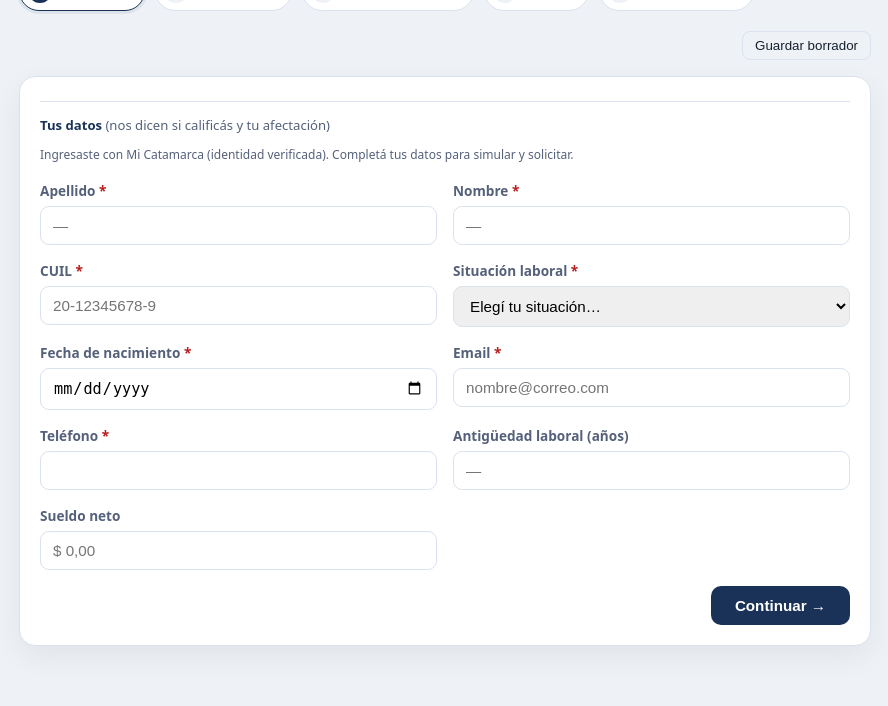
Test: paso 1 · tus datos › exige apellido y nombre
(page scrolled)
Click the button "Continuar →" at [780, 606], box [711,586,850,625]
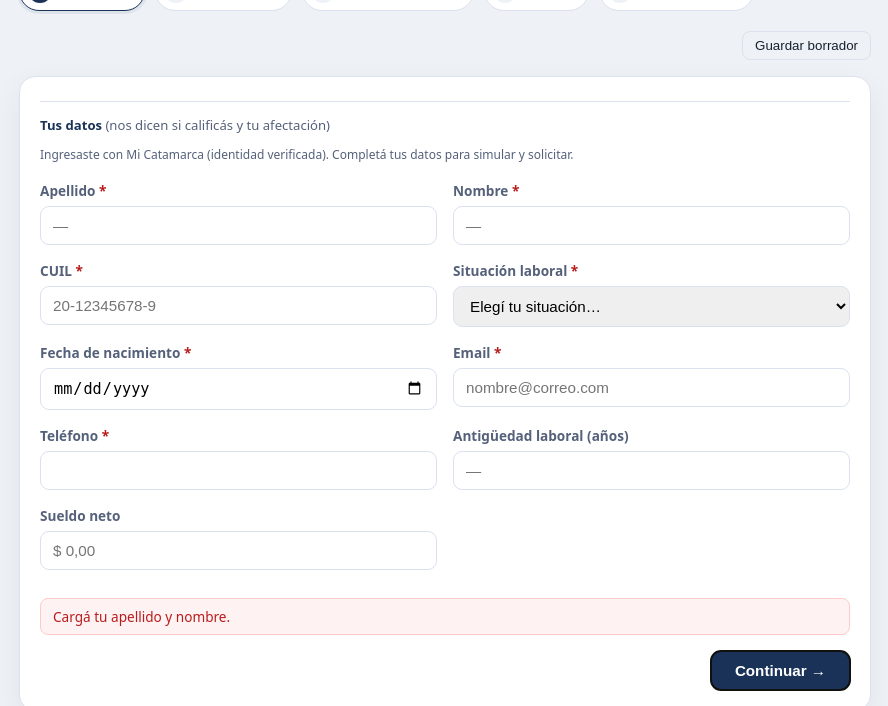
Expected: the text "Cargá tu apellido y nombre." is shown, [40,598,850,635]
